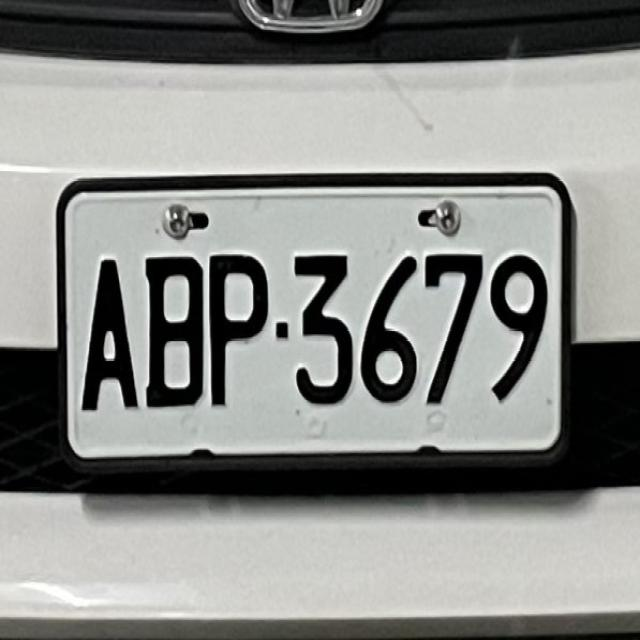license-plate: (52, 163, 573, 484)
